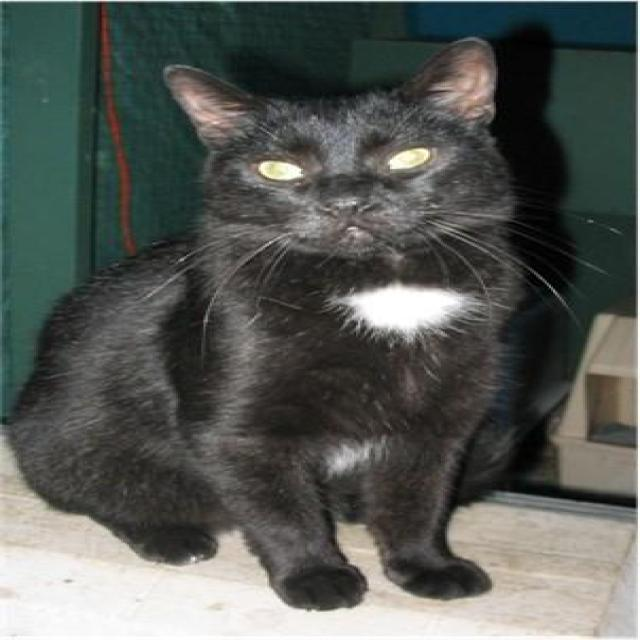Cats: (4, 30, 594, 610)
